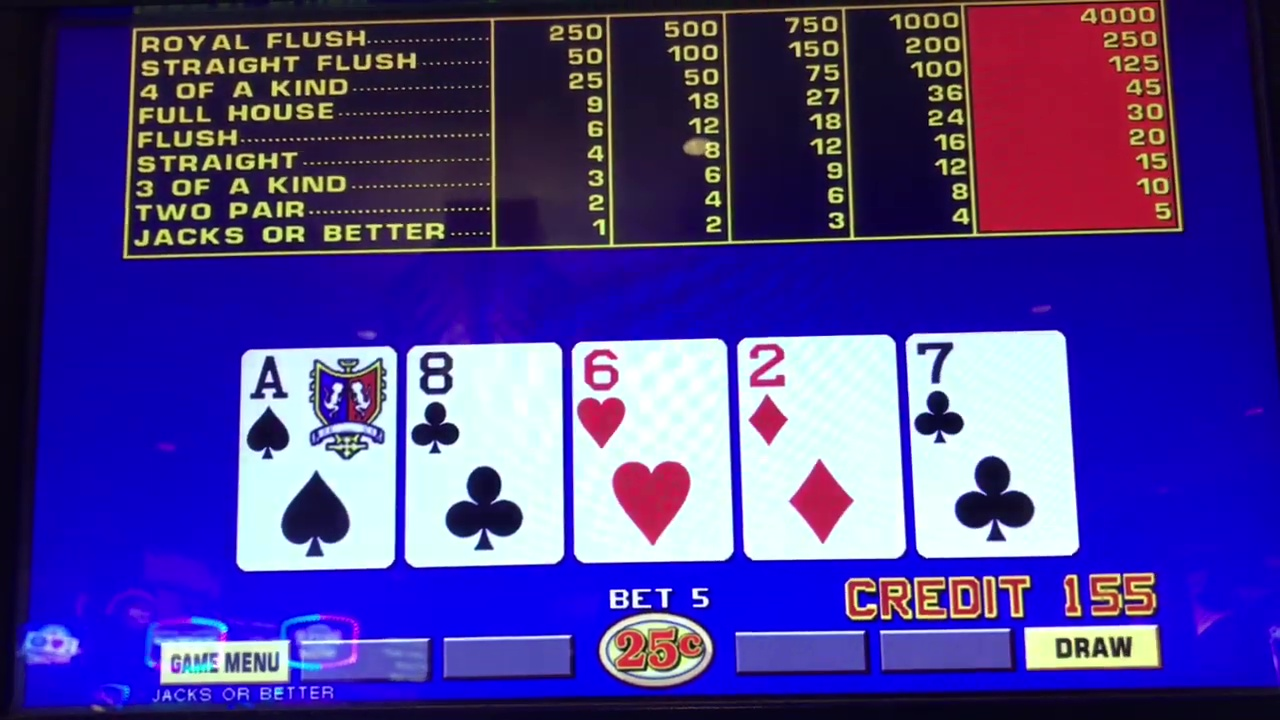C7: (918, 335, 1064, 552)
C8: (411, 348, 560, 563)
D2: (747, 340, 899, 558)
H6: (577, 343, 724, 562)
SA: (247, 352, 387, 560)
